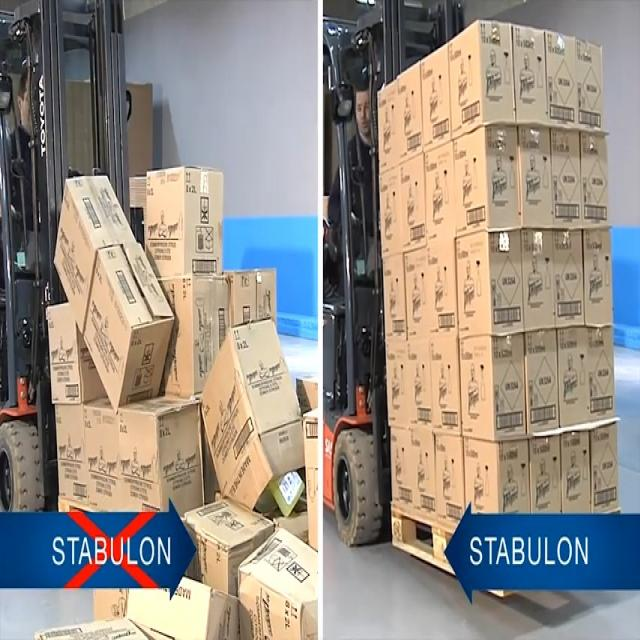Chariot elevateur: (319, 0, 468, 556), (0, 0, 128, 527)
Palette: (387, 497, 521, 604)
